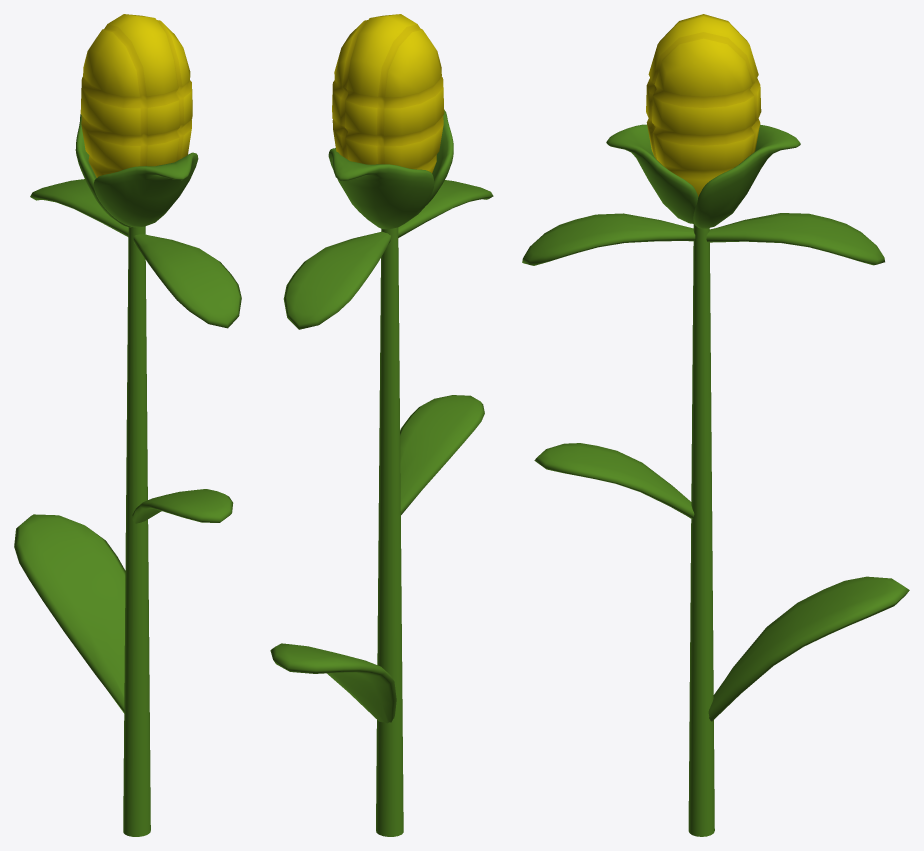
The model's file is prop26.fbx.
3 views of the same model, side by side, from view 1: azimuth 30°, elevation 25°; view 2: azimuth 150°, elevation 25°; view 3: azimuth 270°, elevation 25° (orthographic).
Visible parts, largest first — view 1: Cylinder.040; view 2: Cylinder.040; view 3: Cylinder.040.
Part boxes in pixels (bbox=[...]): Cylinder.040: bbox=[14, 14, 241, 836]; Cylinder.040: bbox=[270, 14, 493, 836]; Cylinder.040: bbox=[522, 14, 909, 836].
Size of the model in its own units: 0.2362 by 0.808 by 1.87.
